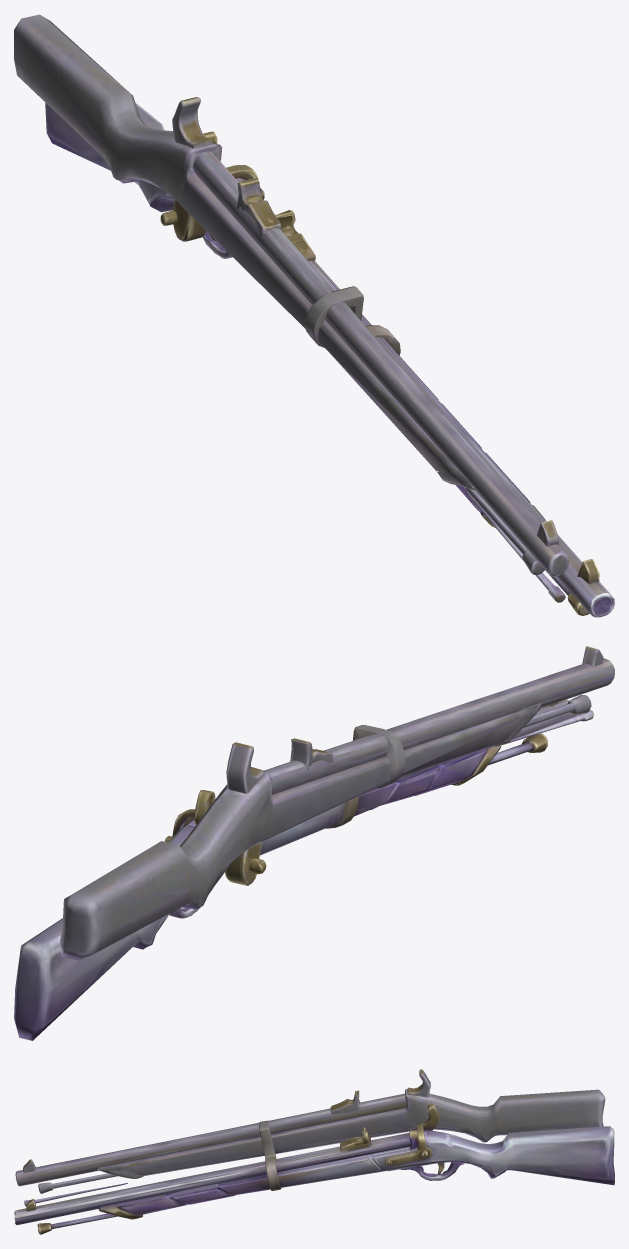
The model's file is yesterdays_rifle.glb.
The picture shows the model from 3 angles, top to bottom: view 1: azimuth 30°, elevation 25°; view 2: azimuth 150°, elevation 25°; view 3: azimuth 270°, elevation 25°; orthographic projection. The views are drawn at different scales.
Parts seen in each view (by area): view 1: Mesh_0; view 2: Mesh_0; view 3: Mesh_0.
Boxes of the visible parts, x1=… form: Mesh_0: x1=14, y1=14, x2=614, y2=617; Mesh_0: x1=14, y1=646, x2=614, y2=1040; Mesh_0: x1=14, y1=1069, x2=614, y2=1234.
Size of the model in its own units: 0.0672 by 0.1746 by 0.6341.
1 material, 1 textured.
